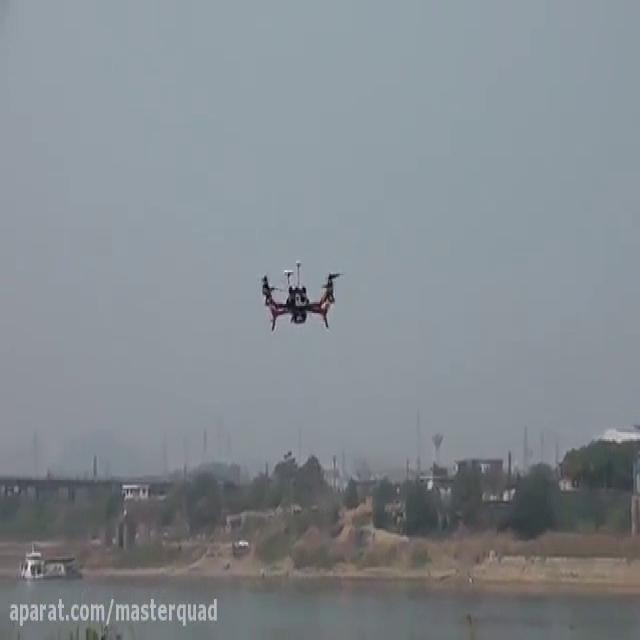drone: (253, 252, 346, 334)
